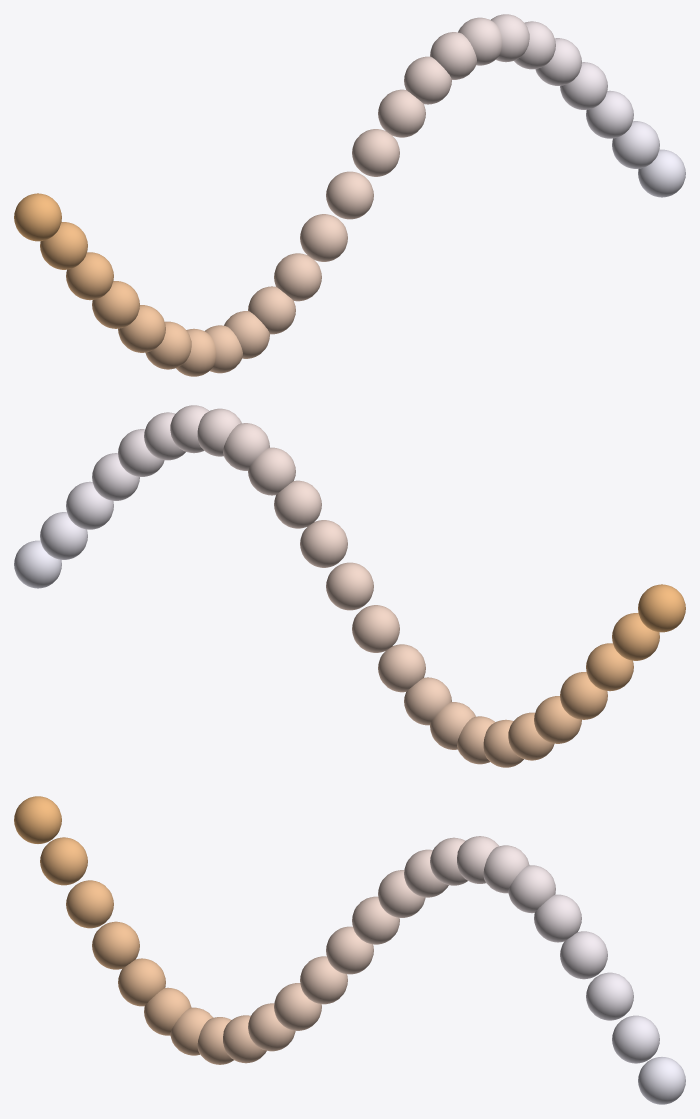
Rendered from wave.glb.
3 renders of one model, top to bottom at view 1: azimuth 30°, elevation 25°; view 2: azimuth 150°, elevation 25°; view 3: azimuth 330°, elevation 25°, orthographic.
Visible parts, largest first — view 1: w_12, w_0, w_11, w_13, w_14, w_10, w_15, w_2, w_23, w_22, w_24, w_3 (+13 smaller); view 2: w_12, w_0, w_11, w_13, w_14, w_10, w_15, w_2, w_23, w_22, w_24, w_3 (+13 smaller); view 3: w_2, w_22, w_1, w_23, w_0, w_24, w_3, w_21, w_20, w_4, w_12, w_11 (+13 smaller).
Boxes of the visible parts, x1,y1,x2,y2 form: w_12: [326, 171, 373, 219]; w_0: [14, 193, 61, 241]; w_11: [300, 214, 347, 261]; w_13: [352, 129, 399, 176]; w_14: [378, 89, 425, 137]; w_10: [274, 253, 321, 301]; w_15: [404, 56, 451, 104]; w_2: [66, 252, 113, 300]; w_23: [612, 121, 659, 168]; w_22: [586, 90, 633, 138]; w_24: [638, 149, 685, 197]; w_3: [92, 281, 139, 328]; w_12: [326, 562, 373, 610]; w_0: [638, 584, 685, 632]; w_11: [352, 605, 399, 652]; w_13: [300, 520, 347, 567]; w_14: [274, 480, 321, 528]; w_10: [378, 644, 425, 692]; w_15: [248, 447, 295, 495]; w_2: [586, 643, 633, 691]; w_23: [40, 512, 87, 559]; w_22: [66, 481, 113, 529]; w_24: [14, 540, 61, 588]; w_3: [560, 672, 607, 719]; w_2: [66, 880, 113, 928]; w_22: [586, 972, 633, 1020]; w_1: [40, 837, 87, 885]; w_23: [612, 1015, 659, 1063]; w_0: [14, 796, 61, 843]; w_24: [638, 1057, 685, 1104]; w_3: [92, 921, 139, 969]; w_21: [560, 931, 607, 979]; w_20: [534, 894, 581, 942]; w_4: [118, 958, 165, 1006]; w_12: [326, 926, 373, 974]; w_11: [300, 956, 347, 1004].
Size of the model in its own units: 2.56 by 1.06 by 0.16.
